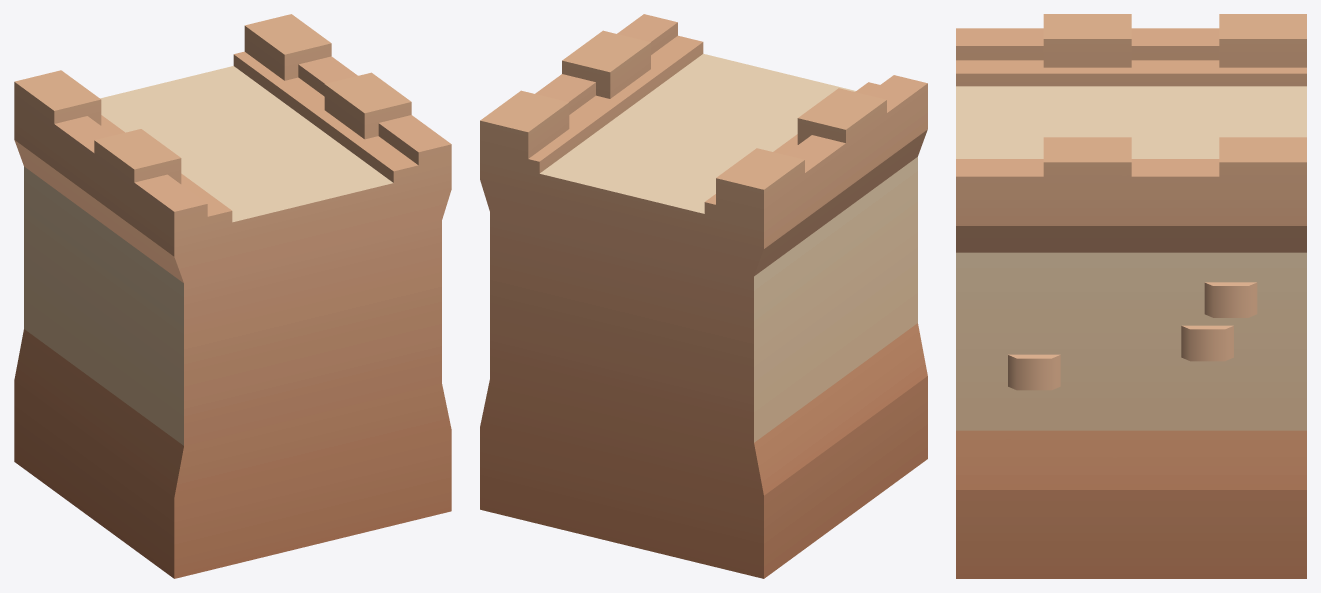
Rendered from k-castle-wall.glb.
The picture shows the model from 3 angles, left to right: view 1: azimuth 30°, elevation 25°; view 2: azimuth 150°, elevation 25°; view 3: azimuth 270°, elevation 25°; orthographic projection. The views are drawn at different scales.
Parts seen in each view (by area): view 1: wall; view 2: wall; view 3: wall.
Boxes of the visible parts, bbox=[...] form: wall: bbox=[14, 14, 451, 578]; wall: bbox=[480, 14, 927, 578]; wall: bbox=[956, 14, 1306, 578].
Bounding box in the file's own units: 1 × 1.31 × 1.
Materials: 1 (1 with a texture image).
